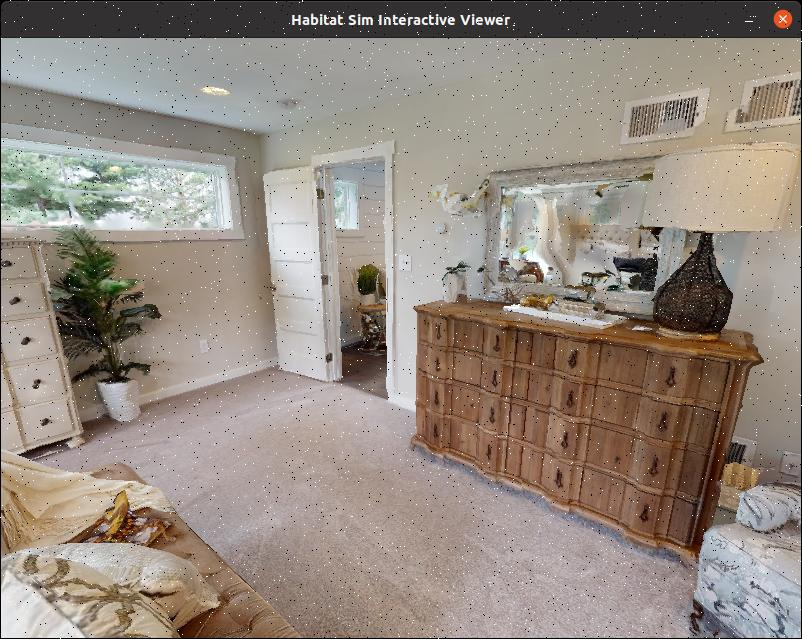door: (247, 147, 337, 398)
door-frame: (307, 137, 397, 406)
